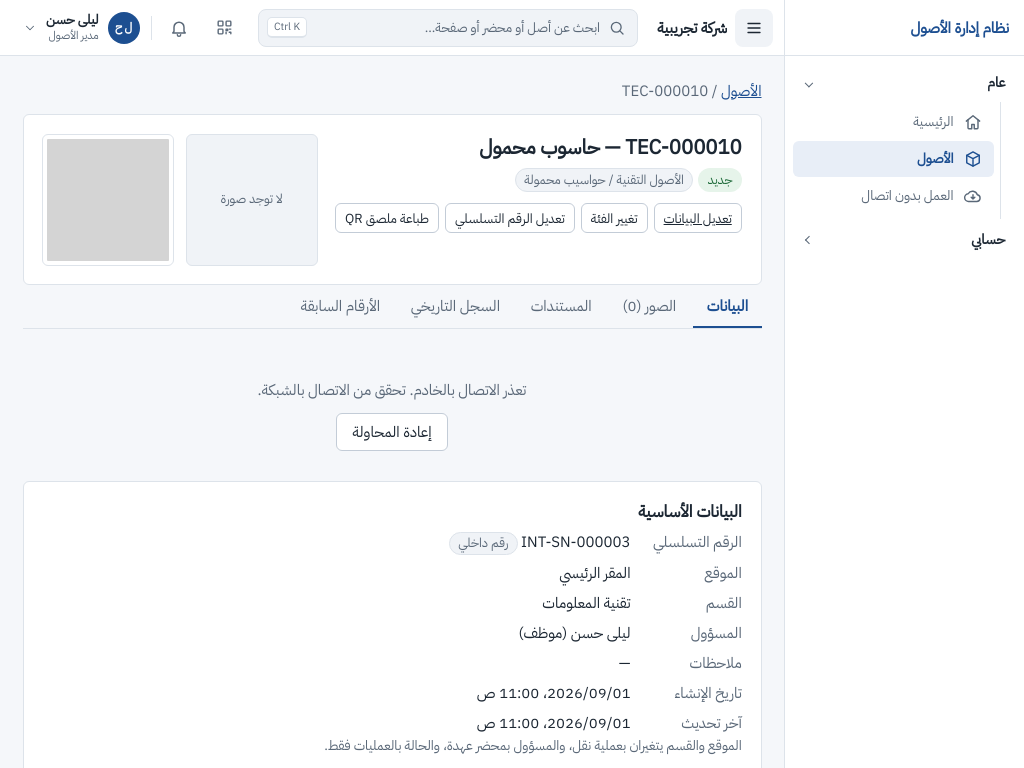
Asset page › shows the expected new number before a category change
Click the button "تغيير الفئة" at coordinates (614, 218), box [581,204,648,234]
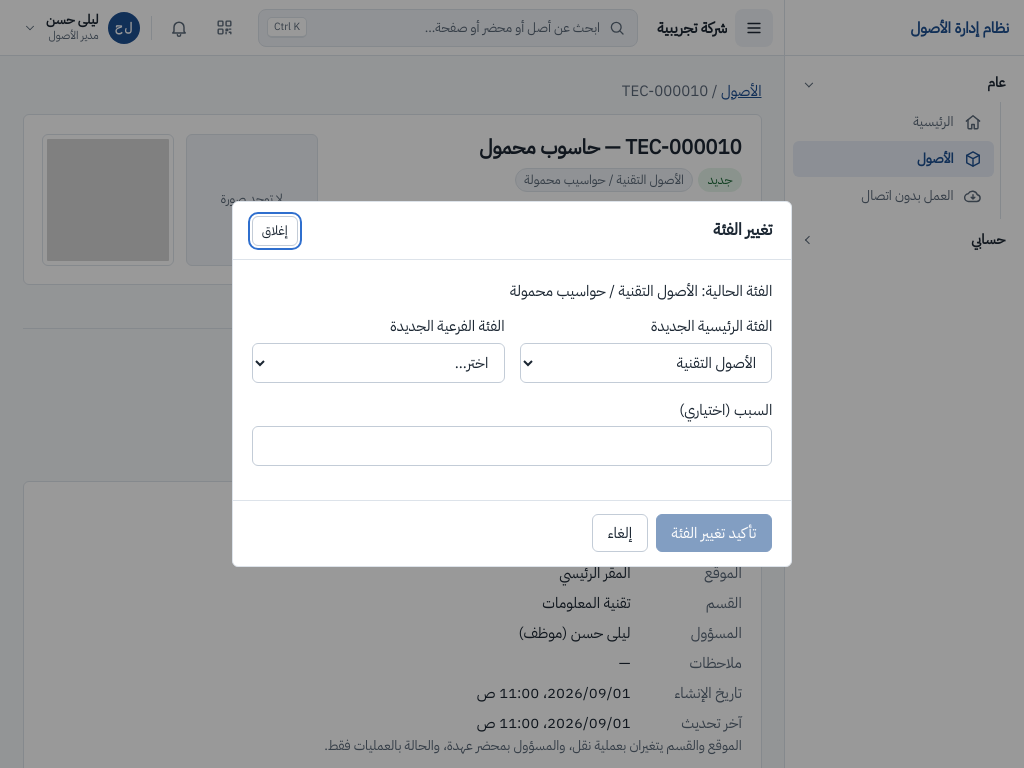
Select "الأصول المكتبية" in the dropdown labelled "الفئة الرئيسية الجديدة" at coordinates (646, 363), box [520,343,772,383]
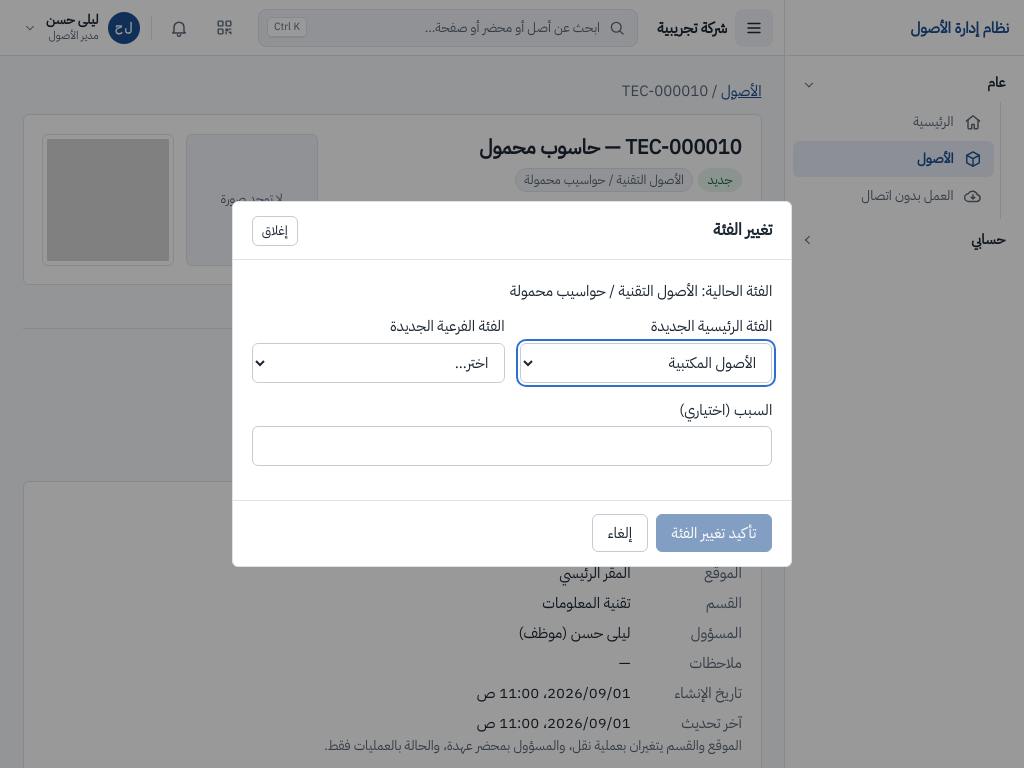
Select "مكاتب" in the dropdown labelled "الفئة الفرعية الجديدة" at coordinates (378, 363), box [252,343,505,383]
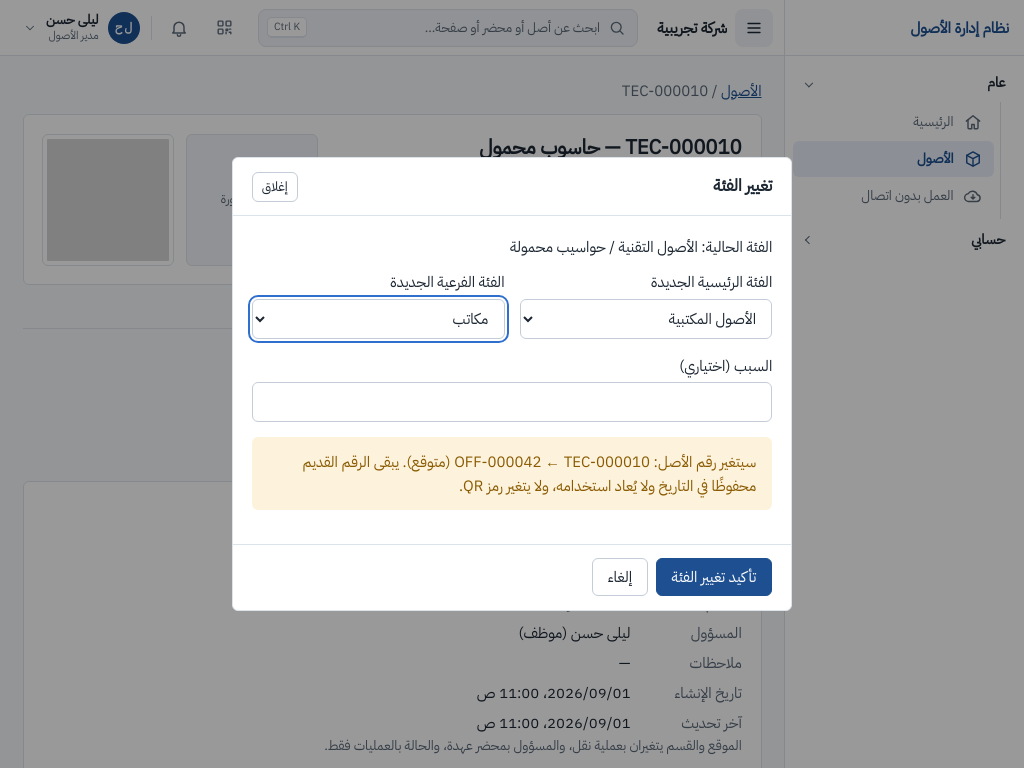
Expected: the text "OFF-000042" is shown, [454,451,542,473]
Expected: the text "لا يتغير رمز QR" is shown, [302,451,756,497]
